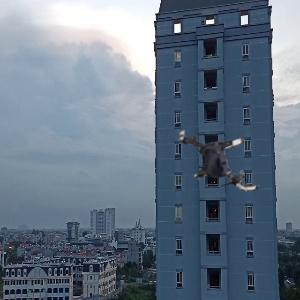drone: (172, 115, 265, 208)
